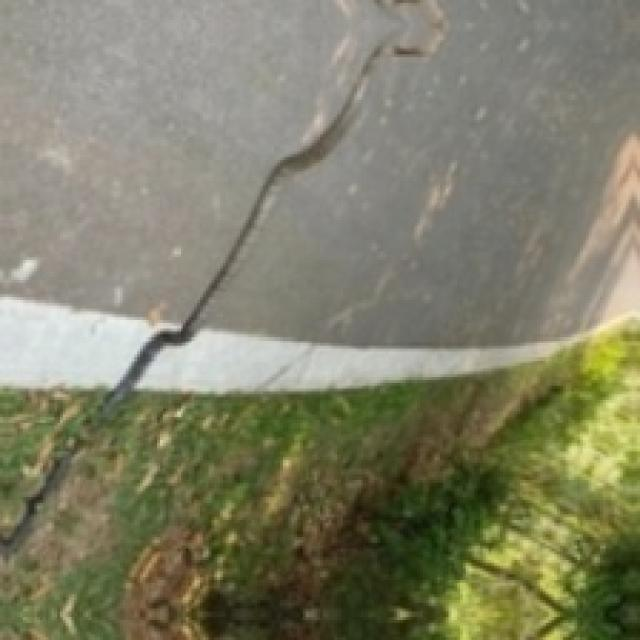king cobra: (0, 0, 443, 414)
